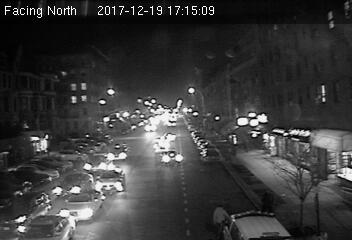car: (59, 188, 104, 222), (17, 215, 77, 240), (54, 174, 95, 195), (95, 166, 126, 192), (83, 155, 111, 171), (158, 150, 185, 166), (107, 144, 129, 161), (202, 149, 220, 164)
police: (219, 207, 298, 240)
